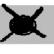not correct: (0, 0, 47, 44)
